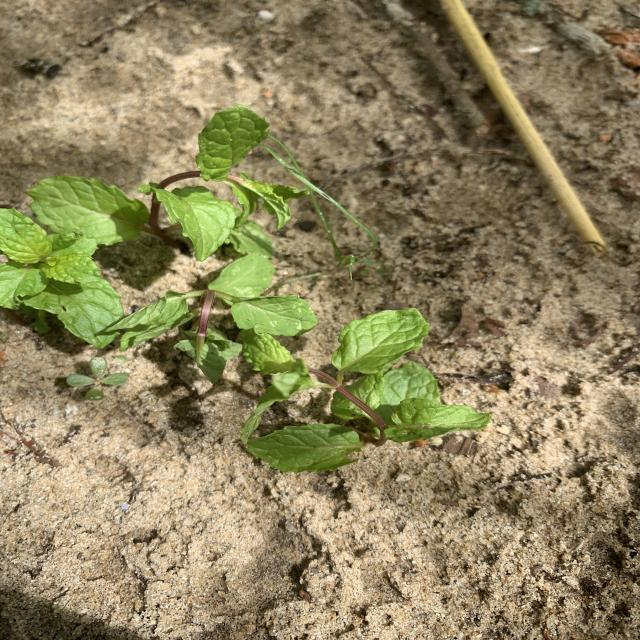crop: (29, 105, 307, 261), (241, 309, 490, 472), (108, 254, 317, 382), (0, 209, 124, 348)
weed: (262, 136, 379, 280), (58, 357, 129, 401), (358, 257, 387, 277)
